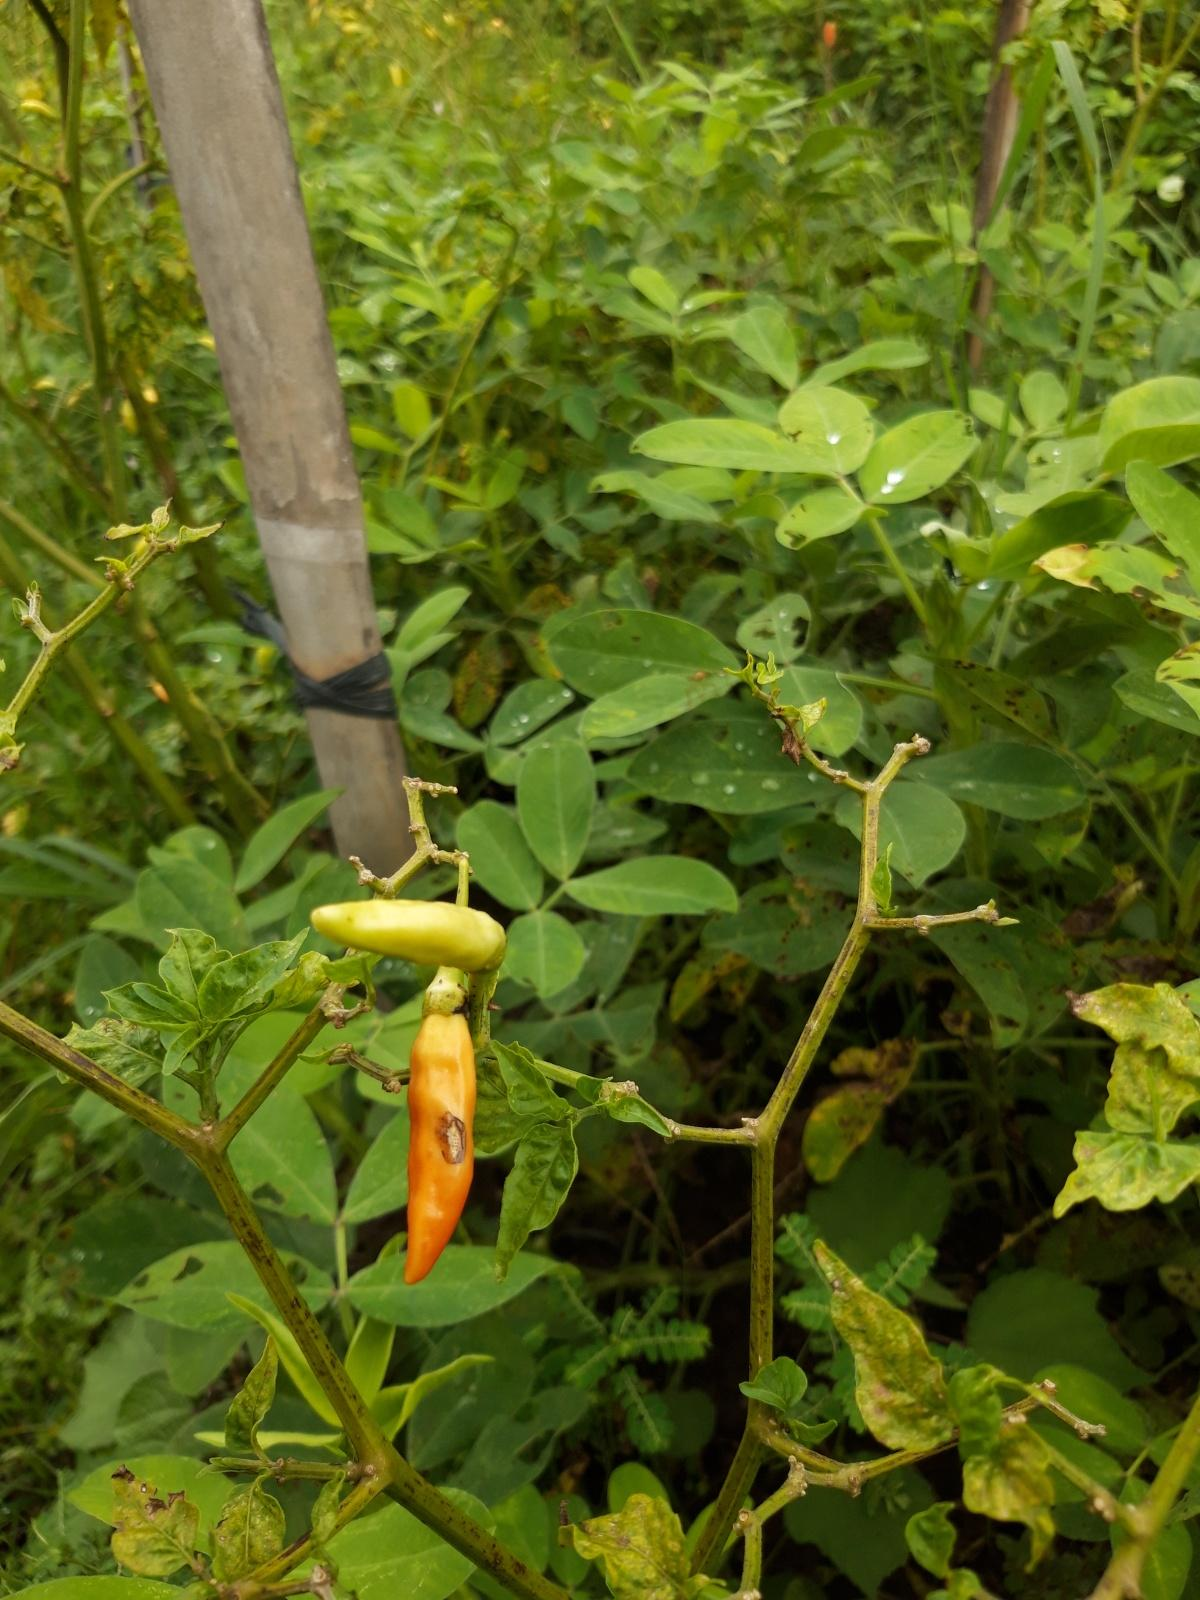cabai_normal: (309, 898, 509, 976)
lalat_buah: (401, 994, 475, 1286)
